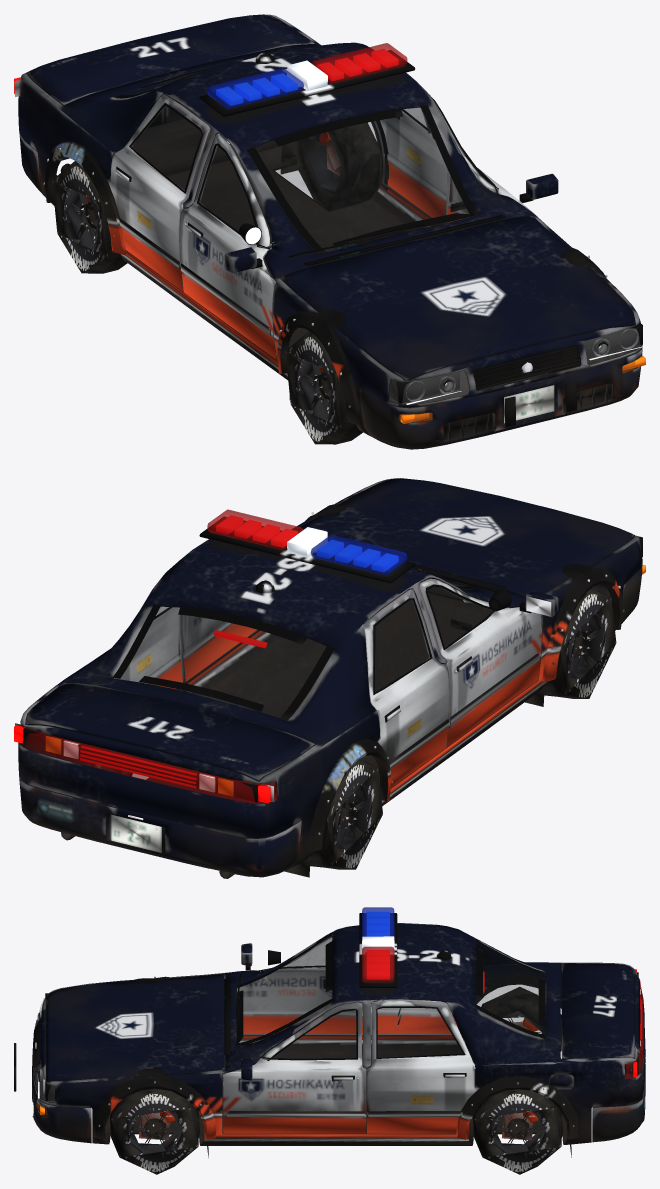
The model's file is car_lod1.glb.
3 views of the same model, one above another, from view 1: azimuth 30°, elevation 25°; view 2: azimuth 150°, elevation 25°; view 3: azimuth 270°, elevation 25° (orthographic). The views are drawn at different scales.
Visible parts, largest first — view 1: Body, Wheel_RL, Wheel_FR, Wheel_RR; view 2: Body, Wheel_RR, Wheel_FR; view 3: Body, Wheel_FL, Wheel_RL, Wheel_RR.
Part boxes in pixels (x1,y1,x2,y2): Body: (14, 14, 645, 449); Wheel_RL: (295, 122, 379, 210); Wheel_FR: (285, 331, 362, 444); Wheel_RR: (52, 161, 127, 273); Body: (14, 478, 645, 878); Wheel_RR: (310, 759, 382, 869); Wheel_FR: (544, 588, 616, 698); Body: (14, 907, 645, 1157); Wheel_FL: (110, 1088, 199, 1174); Wheel_RL: (473, 1089, 562, 1174); Wheel_RR: (481, 987, 561, 1051).
Size of what is drawn, in the model's own units: 2.16 by 1.47 by 4.61.
Materials: 2 (2 with a texture image).
